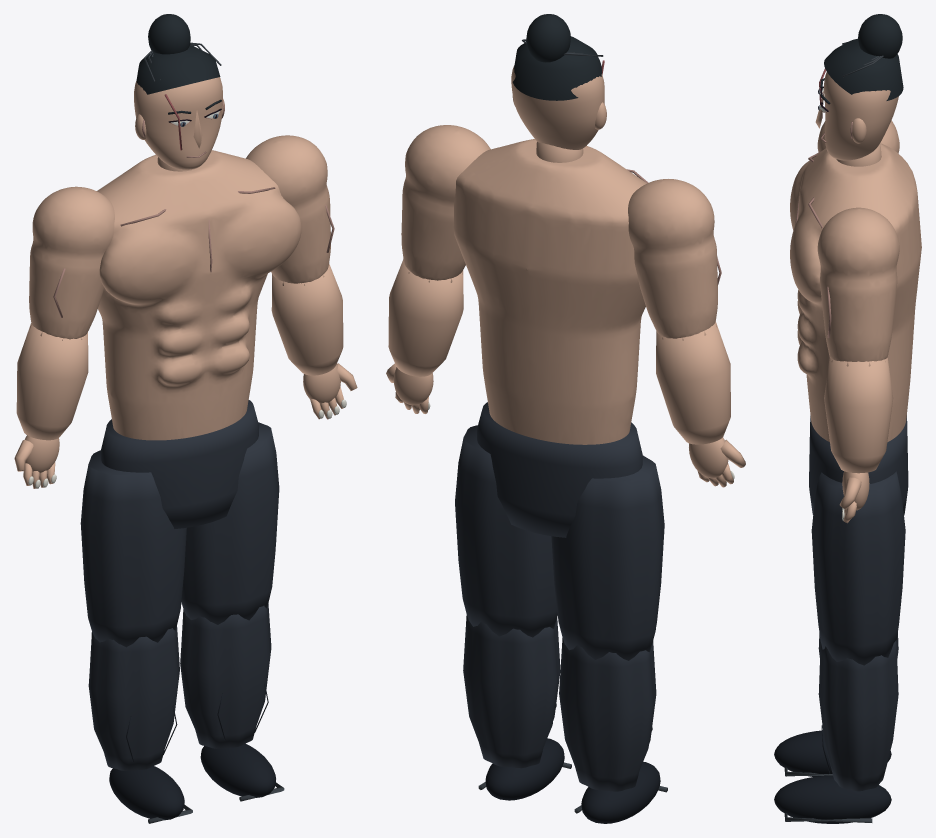
File: todoShibuya.glb
3 renders of one model, left to right at view 1: azimuth 30°, elevation 25°; view 2: azimuth 150°, elevation 25°; view 3: azimuth 270°, elevation 25°, orthographic. The views are drawn at different scales.
Visible parts, largest first — view 1: continuous athletic torso.002, draped trouser upper leg.014, draped trouser upper leg.015, draped trouser lower leg.015, draped trouser lower leg.014, continuous upper arm anatomy.010, fitted trouser seat.007, finger.124, finger.128, continuous upper arm anatomy.011, ear.012, brow.028 (+2 smaller); view 2: continuous athletic torso.002, draped trouser upper leg.014, draped trouser upper leg.015, continuous upper arm anatomy.010, draped trouser lower leg.015, draped trouser lower leg.014, fitted trouser seat.007, finger.124, continuous upper arm anatomy.011, finger.128, brow.028, ear.012 (+2 smaller); view 3: continuous athletic torso.002, draped trouser upper leg.015, continuous upper arm anatomy.011, draped trouser lower leg.015, finger.128, brow.028, ear.012, ankle gathered cloth crease.030, fitted trouser seat.007, ankle gathered cloth crease.028, continuous upper arm anatomy.010, sole edge.027.
Boxes of the visible parts, left/top/right/bottom form: continuous athletic torso.002: left=97, top=150, right=301, bottom=440; draped trouser upper leg.014: left=80, top=450, right=186, bottom=647; draped trouser upper leg.015: left=181, top=422, right=279, bottom=624; draped trouser lower leg.015: left=180, top=603, right=271, bottom=748; draped trouser lower leg.014: left=88, top=626, right=179, bottom=770; continuous upper arm anatomy.010: left=29, top=186, right=114, bottom=339; fitted trouser seat.007: left=101, top=400, right=258, bottom=528; finger.124: left=14, top=323, right=88, bottom=488; finger.128: left=271, top=263, right=357, bottom=419; continuous upper arm anatomy.011: left=246, top=135, right=330, bottom=283; ear.012: left=134, top=77, right=224, bottom=169; brow.028: left=136, top=14, right=221, bottom=114; continuous athletic torso.002: left=453, top=139, right=646, bottom=444; draped trouser upper leg.014: left=551, top=455, right=664, bottom=660; draped trouser upper leg.015: left=455, top=425, right=557, bottom=637; continuous upper arm anatomy.010: left=628, top=179, right=717, bottom=338; draped trouser lower leg.015: left=463, top=614, right=560, bottom=768; draped trouser lower leg.014: left=559, top=638, right=656, bottom=791; fitted trouser seat.007: left=477, top=402, right=642, bottom=537; finger.124: left=656, top=321, right=745, bottom=487; continuous upper arm anatomy.011: left=401, top=125, right=490, bottom=280; finger.128: left=386, top=259, right=463, bottom=413; brow.028: left=512, top=14, right=601, bottom=100; ear.012: left=511, top=65, right=606, bottom=149; continuous athletic torso.002: left=790, top=143, right=921, bottom=442; draped trouser upper leg.015: left=811, top=471, right=905, bottom=665; continuous upper arm anatomy.011: left=817, top=207, right=899, bottom=361; draped trouser lower leg.015: left=818, top=640, right=898, bottom=791; finger.128: left=824, top=357, right=893, bottom=523; brow.028: left=820, top=14, right=903, bottom=104; ear.012: left=815, top=72, right=898, bottom=160; ankle gathered cloth crease.030: left=774, top=725, right=891, bottom=823; fitted trouser seat.007: left=809, top=415, right=908, bottom=515; ankle gathered cloth crease.028: left=774, top=730, right=891, bottom=776; continuous upper arm anatomy.010: left=817, top=120, right=899, bottom=153; sole edge.027: left=784, top=813, right=872, bottom=822.
Size of the model in its own units: 0.8835 by 1.91 by 0.3268.
